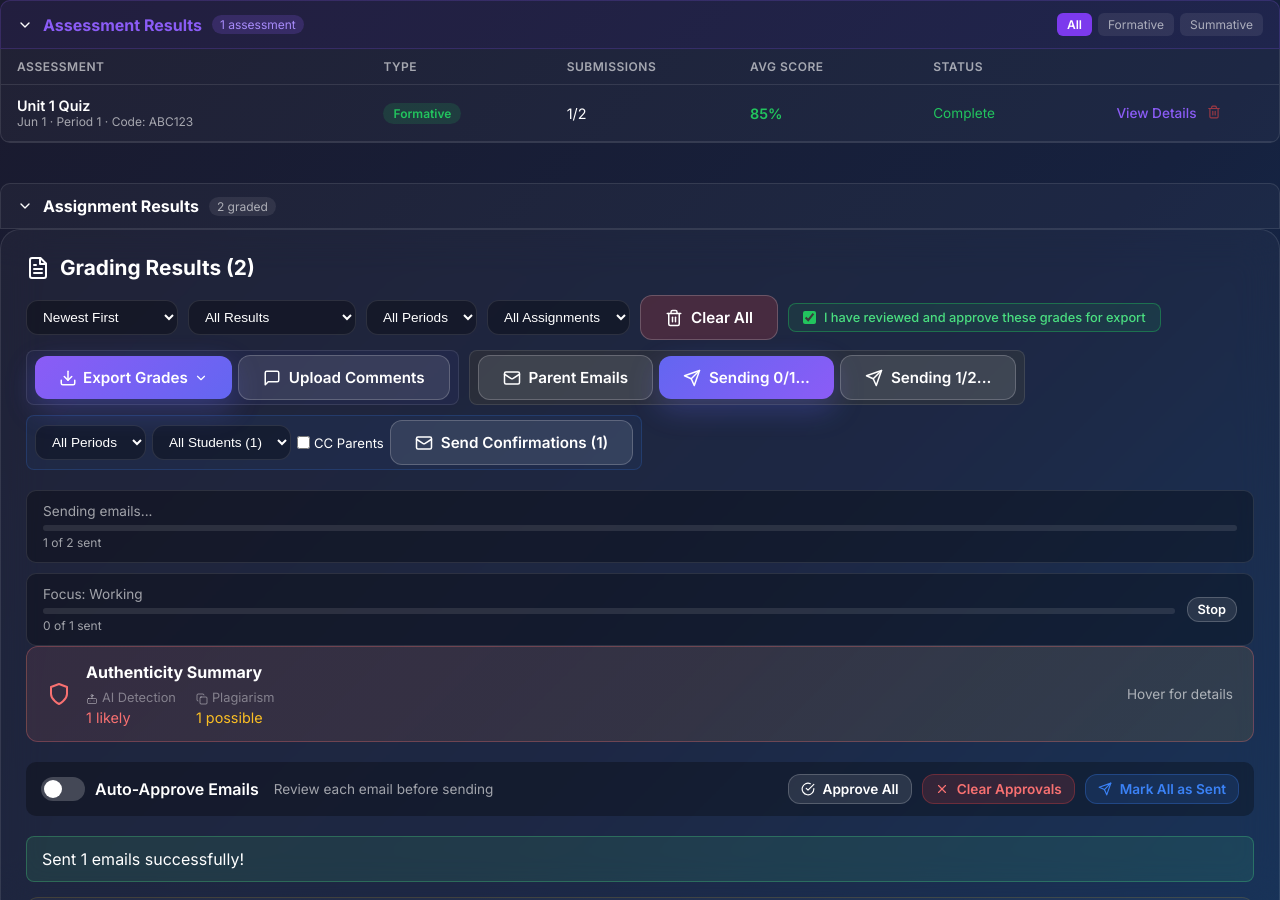
Test case: ResultsTab (post tabs/results/ split) › expands assessment details and the per-question breakdown
The image size is (1280, 900).
What coordinates should you click on to do the following:
click the text "View Details"
I would click on:
 (1156, 113)
Its box is [1116,105,1196,121].
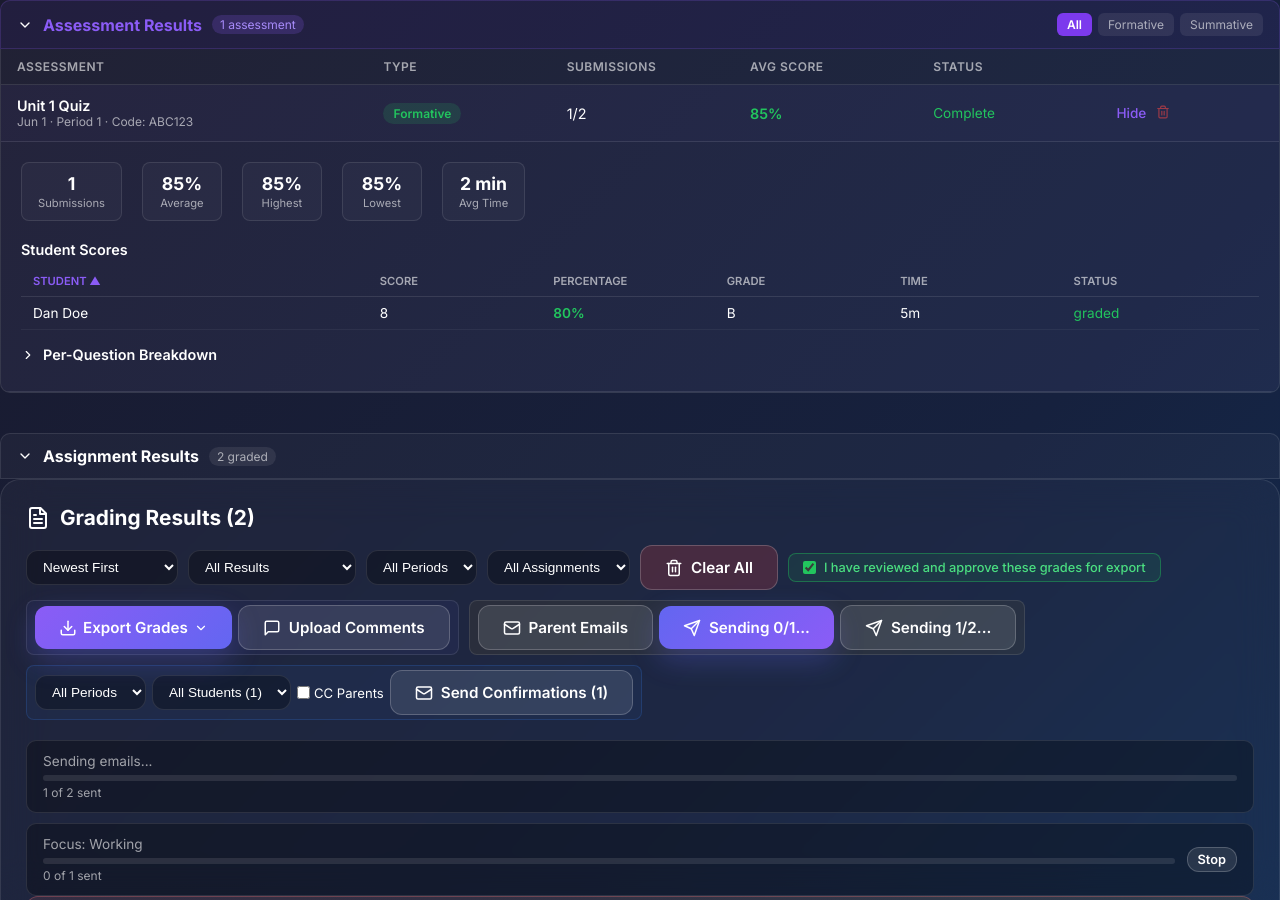
Check: the text "Student Scores" is shown, box [21,241,128,258]
Check: the text "Dan Doe" is shown, box [33,305,88,321]
What coordinates should you click on to do the following:
click the text "Per-Question Breakdown"
I would click on:
 (130, 354)
Its box is [43,346,217,363].
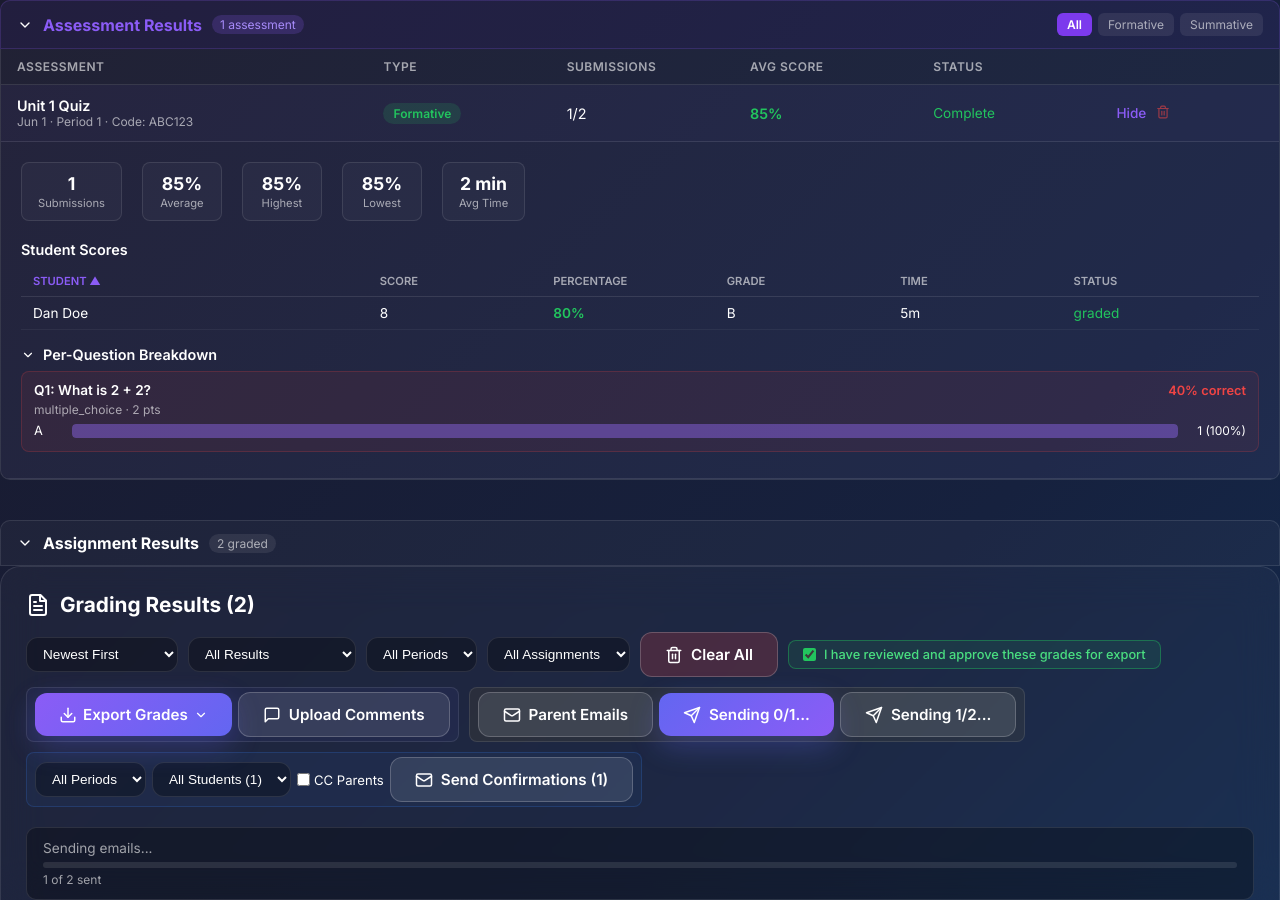
Check: the text "Q1: What is 2 + 2?" is shown, box [34,382,151,398]
